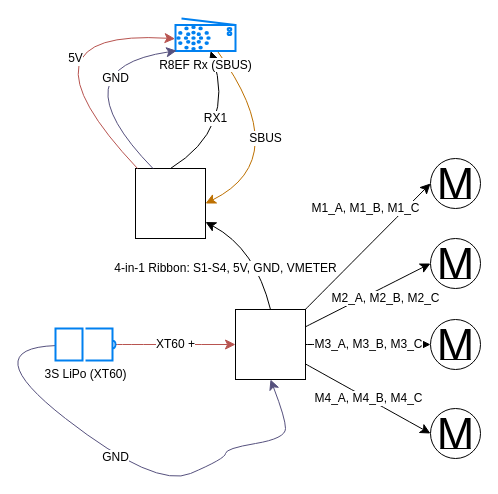
Image size: 498x494. Some labels were removed from this diagram. Here are the shapes that lost their labels. From the top down, the centre of each, then its label:
At point (170, 203): "MincroAir F405 V2 FC".
At point (270, 344): "4-in-1 ESC".
